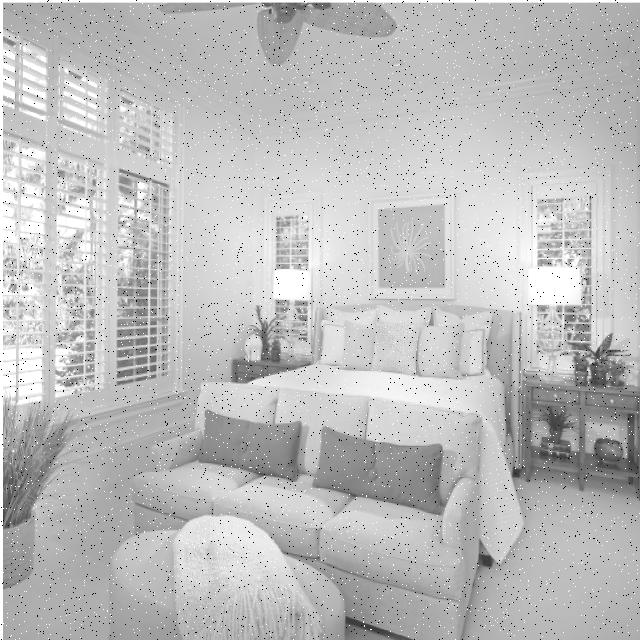bed: (240, 307, 513, 394)
